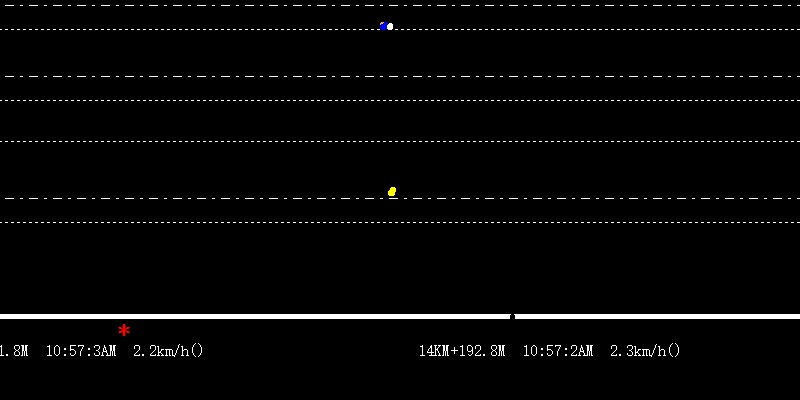face_2: (377, 19, 393, 34)
star: (115, 320, 135, 340)
